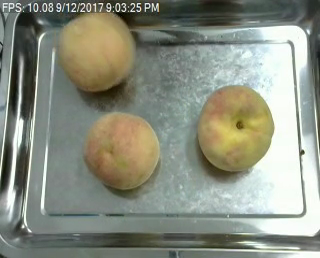Peach: (198, 83, 274, 172), (57, 10, 135, 92), (83, 110, 160, 190)
